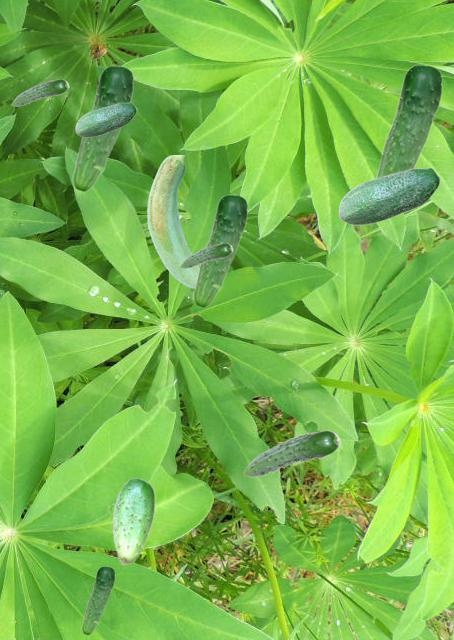cucumber: (71, 65, 133, 191), (375, 64, 442, 177), (147, 155, 198, 287), (192, 194, 247, 307), (338, 167, 440, 224), (243, 430, 340, 476), (112, 477, 154, 564), (81, 566, 114, 634), (75, 102, 136, 136), (11, 79, 68, 105), (180, 243, 232, 267)
